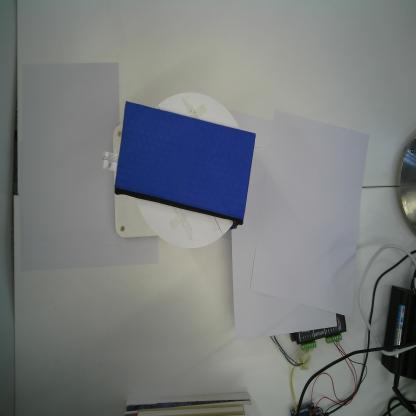Stationery: (101, 96, 257, 232)
